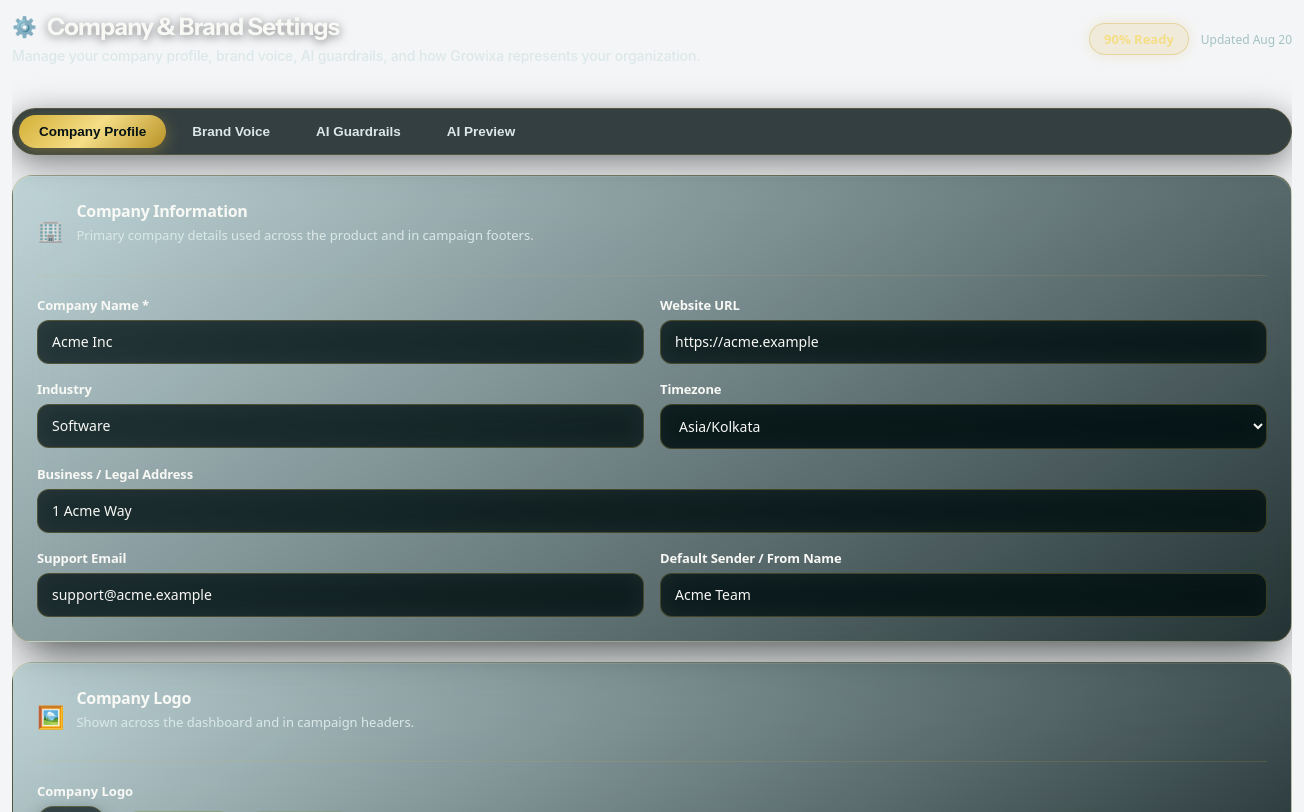
Test: CompanySettingsForm › discards an edit back to the last-saved value
The image size is (1304, 812).
Replace the text in the field showing "Acme Inc" with "Something Else" at (340, 342), box 37,320 -> 644,364
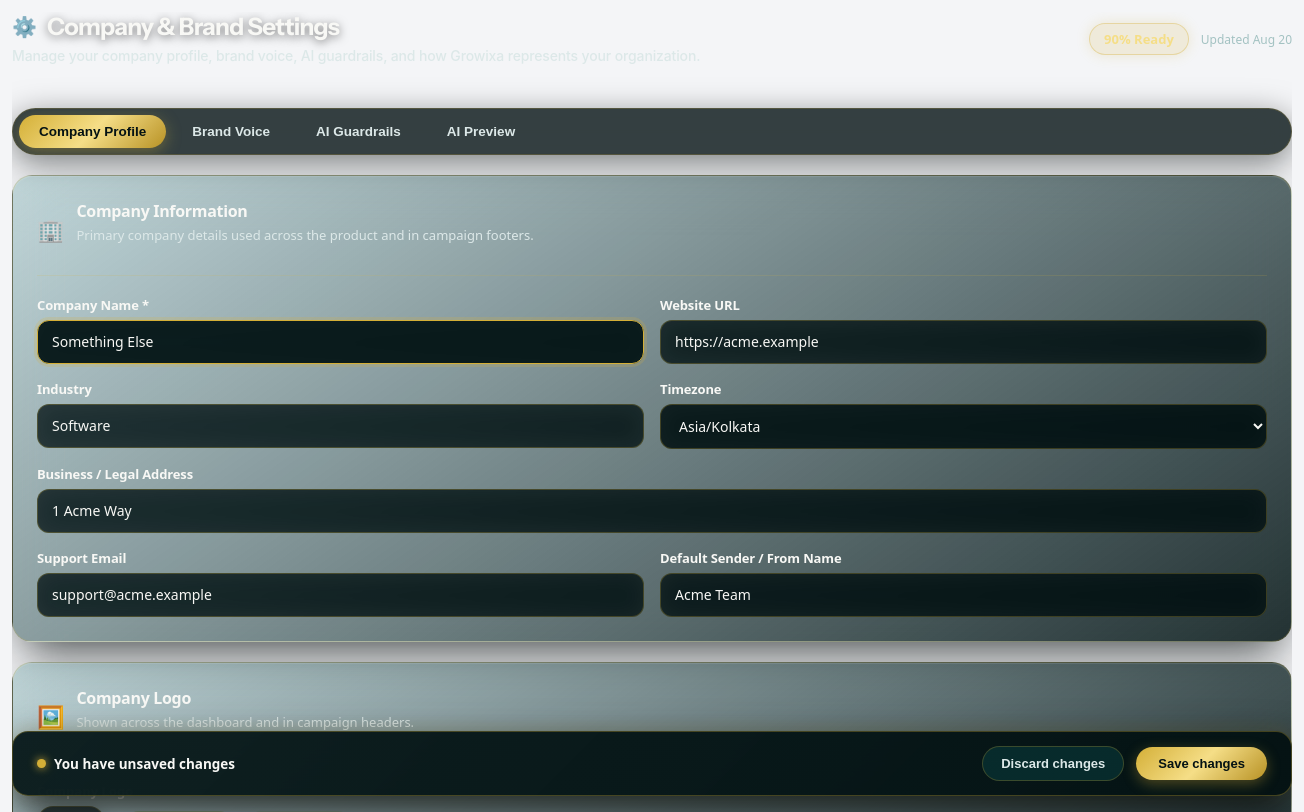
expect the text "You have unsaved changes" is shown: met, box 37,754 -> 235,772
Click the button "Discard changes" at (1053, 764), box 982,746 -> 1124,781
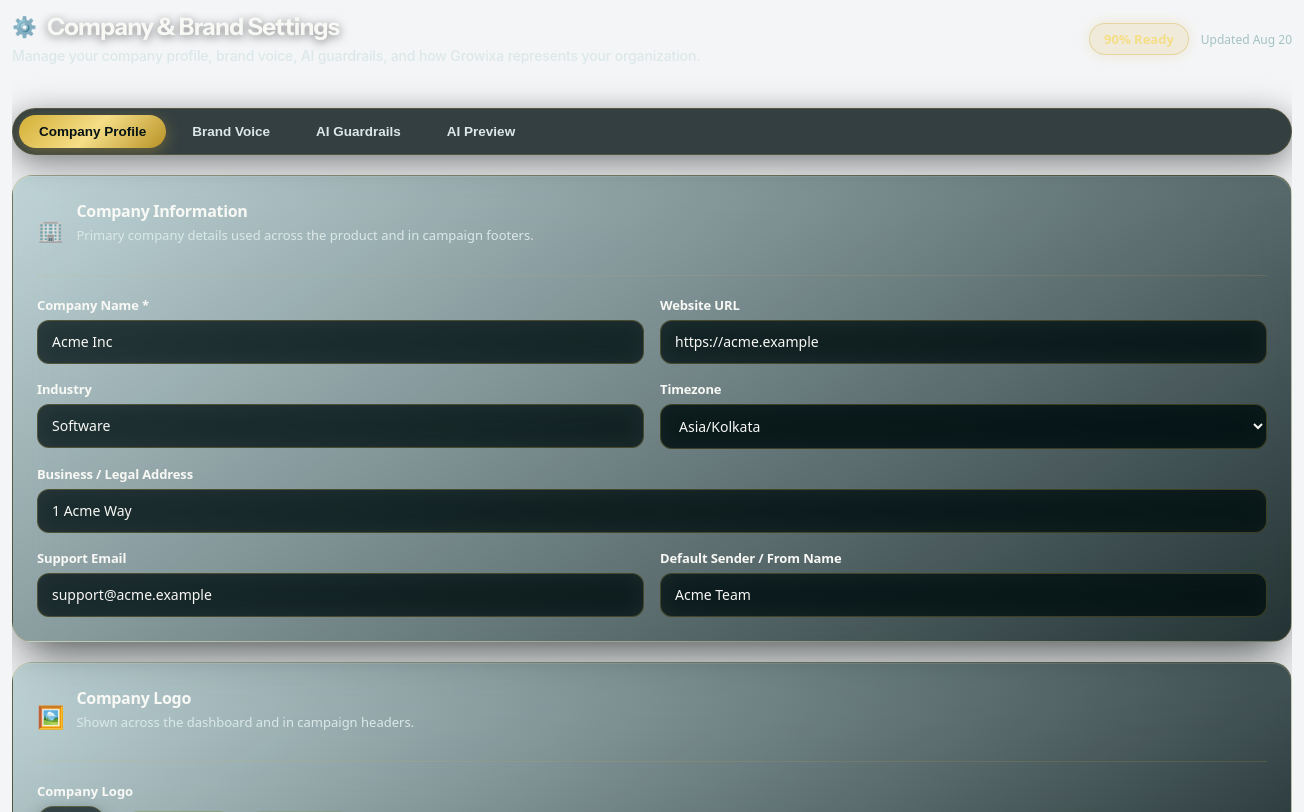
expect the field showing "Acme Inc" is shown: met, box 37,320 -> 644,364
expect the text "You have unsaved changes" is gone: met
